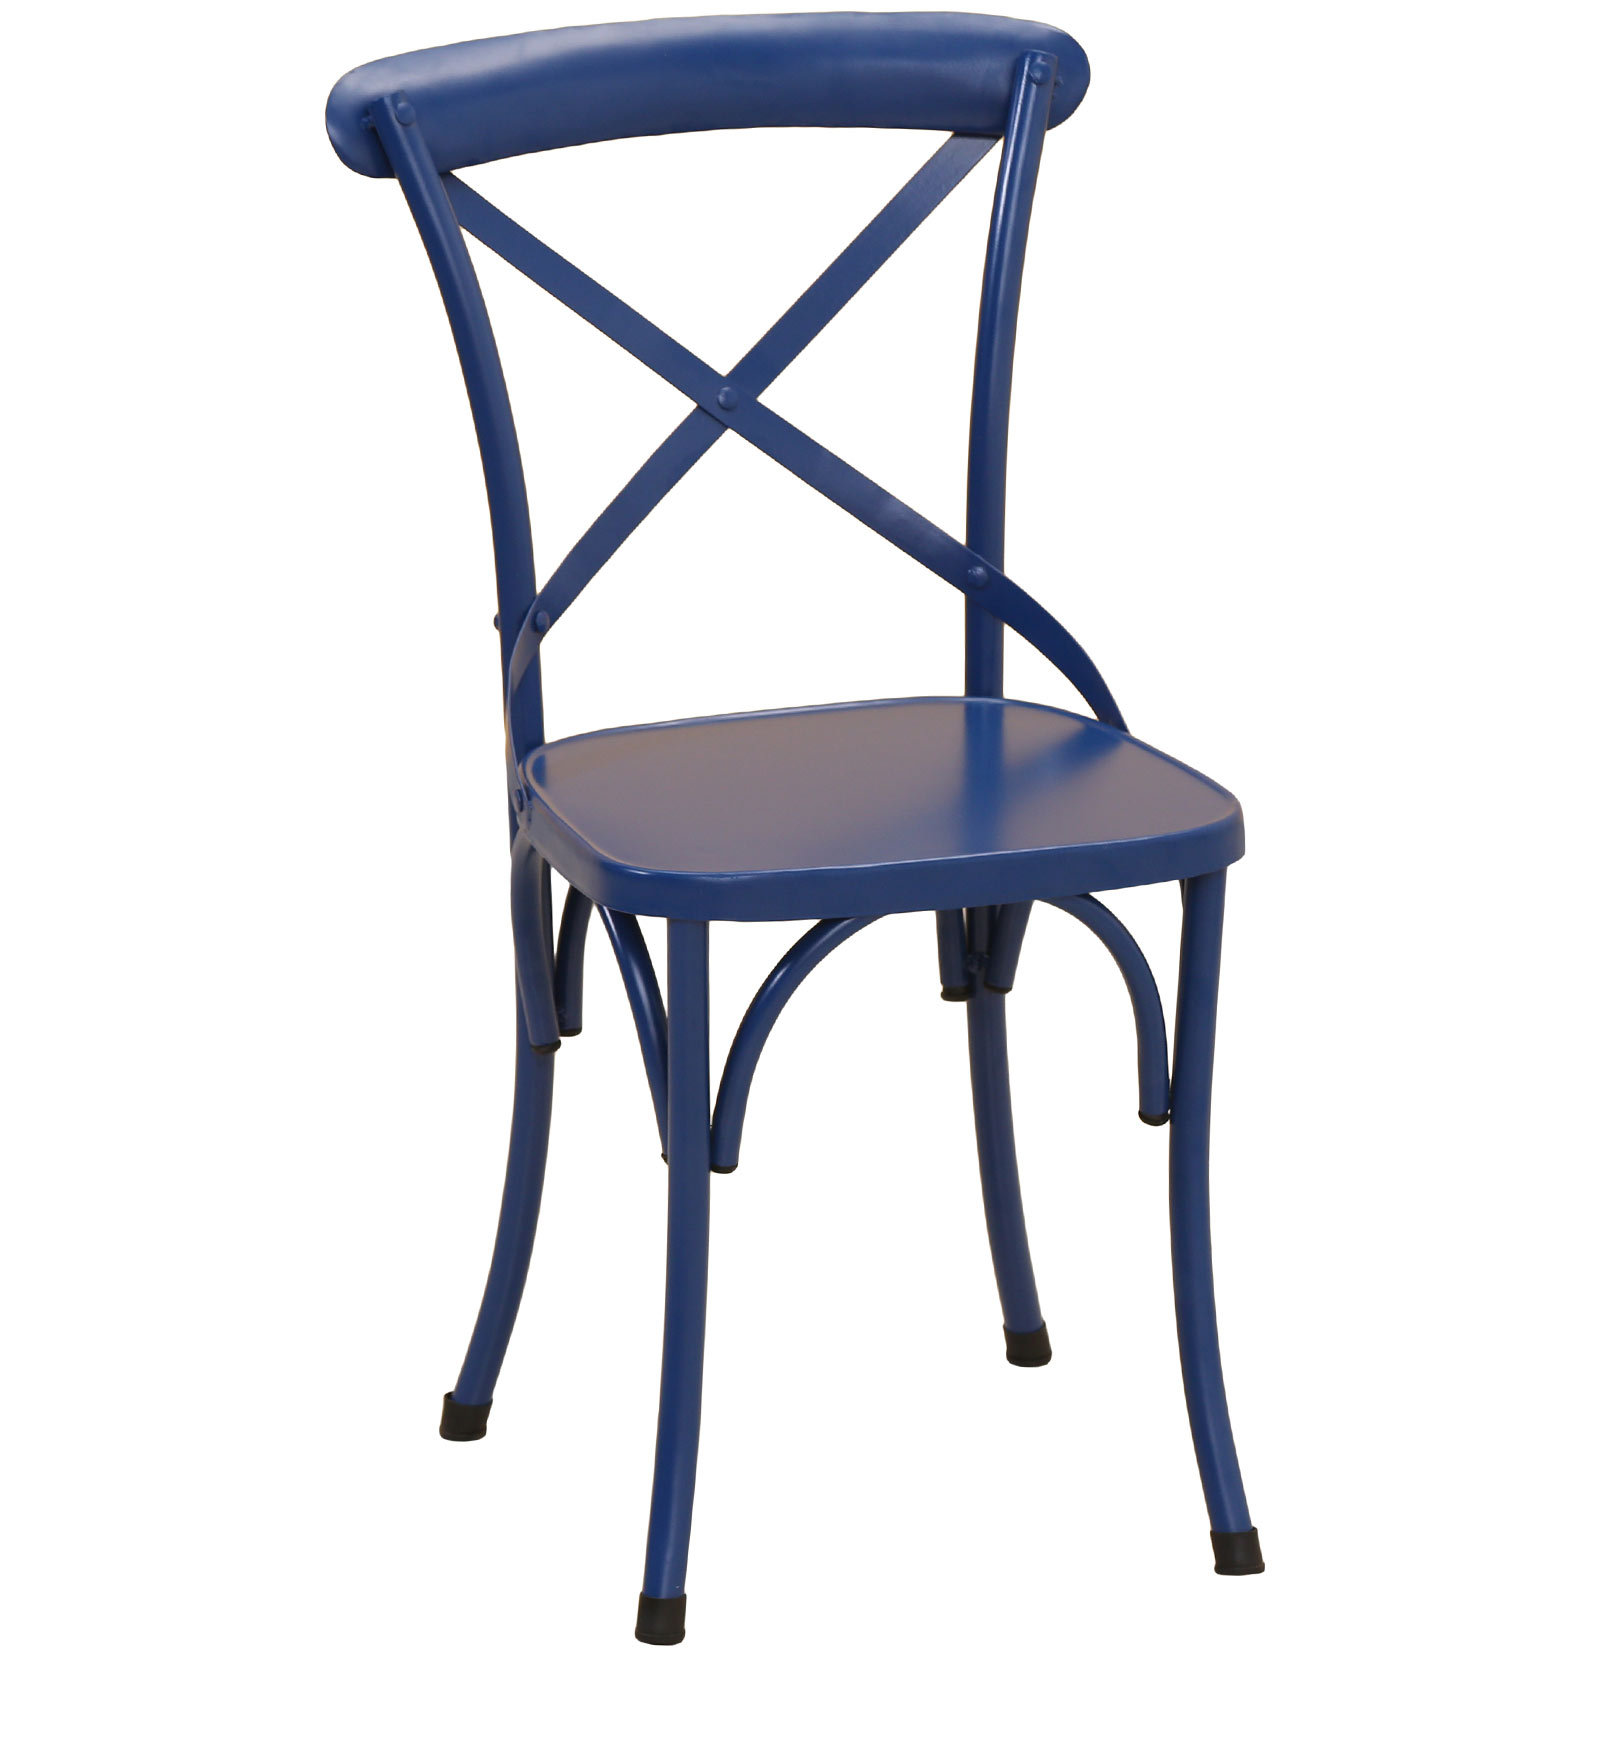Fabian Metal Chair in Blue Color by Bohemiana: (285, 8, 1390, 1671)
